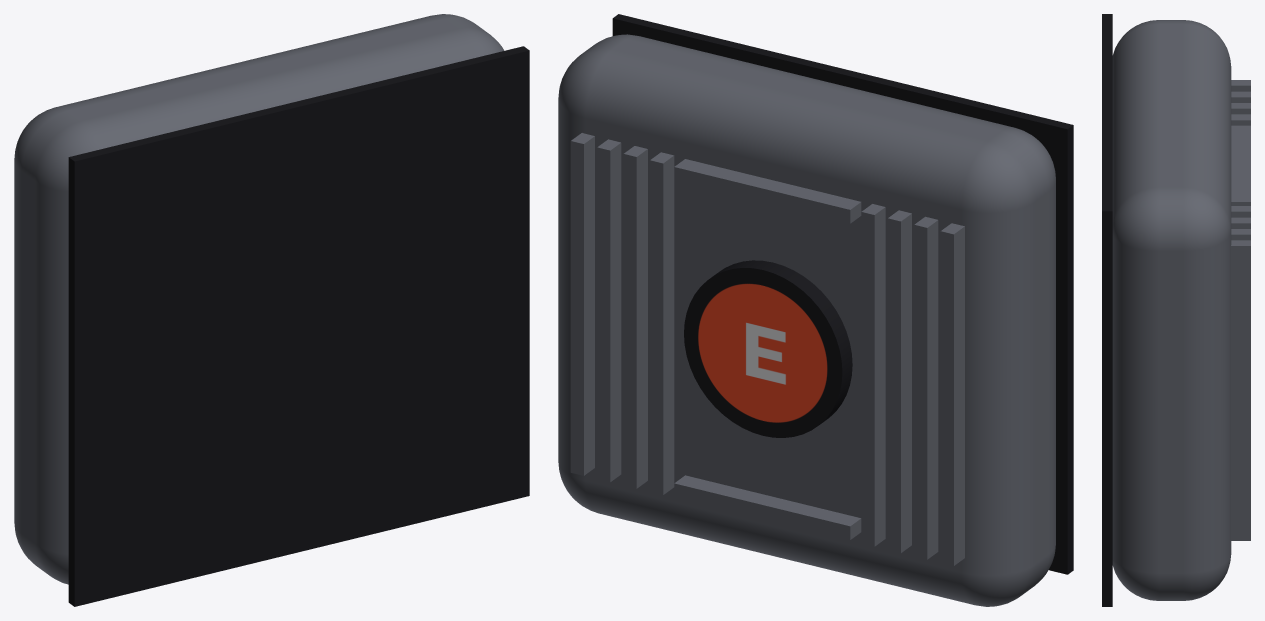
Rendered from 07_Rear_Shell.glb.
3 renders of one model, left to right at view 1: azimuth 30°, elevation 25°; view 2: azimuth 150°, elevation 25°; view 3: azimuth 270°, elevation 25°, orthographic. The views are drawn at different scales.
Visible parts, largest first — view 1: Rear_Shell.Rubber_Black, Rear_Shell.Body_Anodised; view 2: Rear_Shell.Body_Anodised, Rear_Shell.Rubber_Black, Rear_Shell.Print_Rear_Badge, Rear_Shell.Rubber_Black_2, Rear_Shell.Body_Anodised_2, Rear_Shell.Body_Anodised_3, Rear_Shell.Body_Anodised_4, Rear_Shell.Body_Anodised_5, Rear_Shell.Body_Anodised_6, Rear_Shell.Body_Anodised_7, Rear_Shell.Body_Anodised_8, Rear_Shell.Body_Anodised_9 (+2 smaller); view 3: Rear_Shell.Body_Anodised, Rear_Shell.Rubber_Black, Rear_Shell.Body_Anodised_9, Rear_Shell.Body_Anodised_11, Rear_Shell.Body_Anodised_2, Rear_Shell.Body_Anodised_3, Rear_Shell.Body_Anodised_4, Rear_Shell.Body_Anodised_5, Rear_Shell.Body_Anodised_6, Rear_Shell.Body_Anodised_7, Rear_Shell.Body_Anodised_8.
Part boxes in pixels (left/top/right/bottom): Rear_Shell.Rubber_Black: left=68, top=46, right=529, bottom=606; Rear_Shell.Body_Anodised: left=14, top=14, right=504, bottom=584; Rear_Shell.Body_Anodised: left=558, top=34, right=1055, bottom=606; Rear_Shell.Rubber_Black: left=612, top=14, right=1073, bottom=574; Rear_Shell.Print_Rear_Badge: left=698, top=283, right=827, bottom=422; Rear_Shell.Rubber_Black_2: left=684, top=260, right=852, bottom=437; Rear_Shell.Body_Anodised_2: left=940, top=223, right=964, bottom=565; Rear_Shell.Body_Anodised_3: left=914, top=216, right=938, bottom=559; Rear_Shell.Body_Anodised_4: left=887, top=210, right=911, bottom=553; Rear_Shell.Body_Anodised_5: left=861, top=204, right=885, bottom=546; Rear_Shell.Body_Anodised_6: left=650, top=152, right=674, bottom=494; Rear_Shell.Body_Anodised_7: left=623, top=146, right=647, bottom=488; Rear_Shell.Body_Anodised_8: left=597, top=139, right=621, bottom=482; Rear_Shell.Body_Anodised_9: left=570, top=133, right=594, bottom=475; Rear_Shell.Body_Anodised: left=1112, top=20, right=1231, bottom=600; Rear_Shell.Rubber_Black: left=1102, top=14, right=1112, bottom=606; Rear_Shell.Body_Anodised_9: left=1231, top=240, right=1250, bottom=540; Rear_Shell.Body_Anodised_11: left=1231, top=125, right=1250, bottom=205; Rear_Shell.Body_Anodised_2: left=1231, top=80, right=1250, bottom=91; Rear_Shell.Body_Anodised_3: left=1231, top=91, right=1250, bottom=102; Rear_Shell.Body_Anodised_4: left=1231, top=103, right=1250, bottom=114; Rear_Shell.Body_Anodised_5: left=1231, top=114, right=1250, bottom=125; Rear_Shell.Body_Anodised_6: left=1231, top=206, right=1250, bottom=217; Rear_Shell.Body_Anodised_7: left=1231, top=217, right=1250, bottom=228; Rear_Shell.Body_Anodised_8: left=1231, top=229, right=1250, bottom=240.
Size of the model in its own units: 0.052 by 0.0487 by 0.0161.
Materials: 3 (1 with a texture image).
